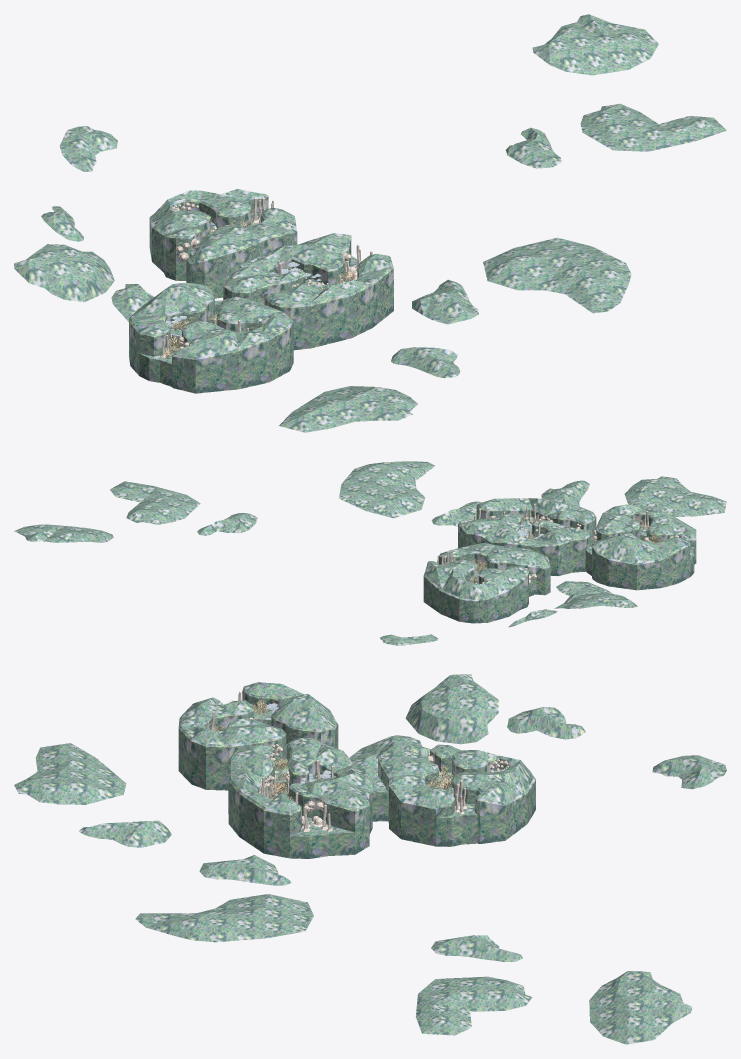
The model's file is coral00.dae.
The picture shows the model from 3 angles, top to bottom: view 1: azimuth 30°, elevation 25°; view 2: azimuth 150°, elevation 25°; view 3: azimuth 270°, elevation 25°; orthographic projection. The views are drawn at different scales.
Visible parts, largest first — view 1: m0, m1; view 2: m0, m1; view 3: m0, m1.
Part boxes in pixels (<box>): m0: <box>14,14,726,432</box>; m1: <box>160,197,372,358</box>; m0: <box>14,461,726,645</box>; m1: <box>437,504,690,584</box>; m0: <box>14,674,726,1044</box>; m1: <box>207,691,509,831</box>.
Size of the model in its own units: 18333 by 1380 by 15369.
3 materials, 3 textured.
